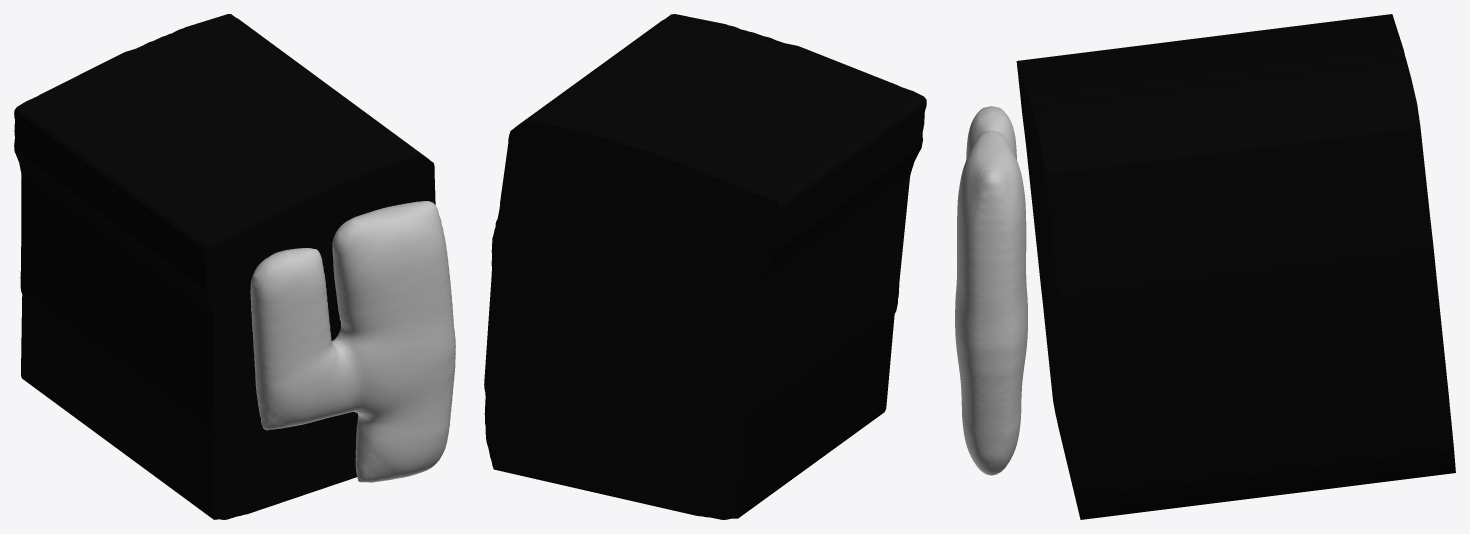
The model's file is num4.glb.
The picture shows the model from 3 angles, left to right: view 1: azimuth 30°, elevation 25°; view 2: azimuth 150°, elevation 25°; view 3: azimuth 270°, elevation 25°; orthographic projection. The views are drawn at different scales.
Parts seen in each view (by area): view 1: mesh_id30, mesh_id26; view 2: mesh_id30; view 3: mesh_id30, mesh_id26.
Boxes of the visible parts, box(x1,y1,x2,y2) form: mesh_id30: box(14, 14, 435, 519); mesh_id26: box(250, 201, 455, 482); mesh_id30: box(484, 14, 926, 519); mesh_id30: box(1016, 14, 1455, 519); mesh_id26: box(955, 106, 1027, 475).
Size of the model in its own units: 0.0973 by 0.1169 by 0.1323.
2 materials, 2 textured.
